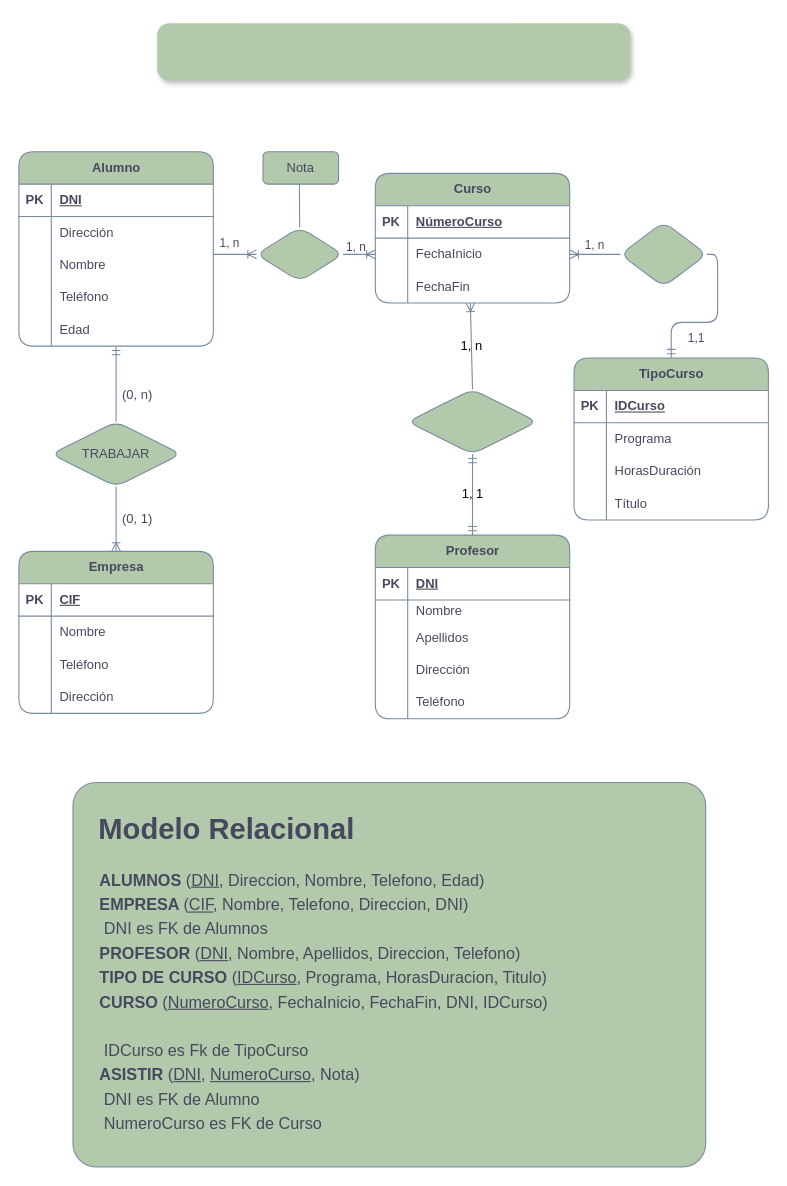
Image size: 787x1186. Some labels were removed from this diagram. The centre of each missing label's shape, as x and y in pixels:
"ASISTIR" goes at point 299,253.
"Ejercicio 2 Academia de clases" goes at point 394,52.
"IMPARTIR" goes at point 472,421.
"TENER" goes at point 663,254.
